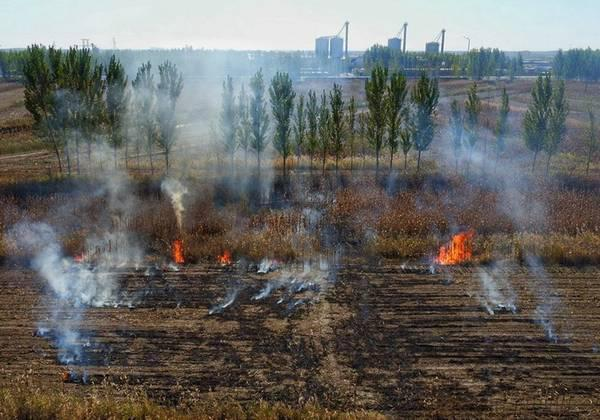fire: (434, 225, 480, 265), (169, 235, 184, 267), (68, 249, 91, 268), (215, 249, 229, 262)
